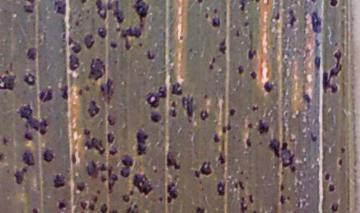tarspot: (119, 1, 149, 51), (16, 102, 48, 137), (321, 51, 343, 94), (144, 85, 167, 109), (280, 142, 297, 173), (132, 173, 154, 196), (88, 57, 107, 82), (86, 158, 107, 180), (82, 137, 107, 155), (99, 78, 115, 105), (181, 93, 195, 123), (107, 1, 125, 24), (118, 154, 134, 177), (135, 130, 149, 156), (1, 70, 17, 92), (164, 151, 180, 171), (107, 165, 118, 194), (310, 11, 323, 35), (194, 161, 212, 177), (268, 137, 281, 159), (21, 149, 36, 167), (166, 182, 178, 204), (68, 52, 81, 72), (94, 1, 107, 21), (52, 172, 67, 189), (67, 36, 82, 53), (257, 118, 270, 136), (14, 167, 27, 185), (86, 100, 99, 118), (38, 88, 53, 103), (53, 1, 68, 16), (83, 33, 95, 50), (149, 110, 163, 124), (41, 148, 55, 162), (170, 82, 183, 97), (96, 24, 109, 39), (217, 37, 227, 56), (287, 8, 297, 27), (22, 73, 36, 86), (22, 1, 36, 14), (26, 46, 37, 62), (59, 84, 70, 100), (145, 48, 157, 61), (105, 114, 117, 127), (239, 195, 248, 212), (70, 148, 79, 165), (216, 181, 226, 196), (247, 47, 258, 60), (263, 80, 273, 93), (302, 92, 312, 105), (210, 17, 221, 28), (221, 123, 232, 133), (56, 200, 67, 210), (108, 145, 118, 156), (212, 132, 221, 144), (308, 131, 317, 143), (272, 10, 281, 22), (217, 152, 225, 165), (199, 110, 209, 120), (168, 108, 178, 118), (23, 131, 33, 141), (108, 40, 118, 50), (106, 133, 115, 144), (125, 206, 139, 213), (313, 55, 321, 67), (330, 202, 339, 212), (237, 180, 246, 190), (75, 183, 85, 192), (79, 200, 88, 210), (121, 194, 131, 203), (82, 127, 91, 137), (194, 205, 205, 213), (244, 137, 252, 148), (279, 193, 286, 205), (239, 1, 246, 13), (98, 174, 107, 183), (249, 70, 257, 80), (236, 64, 244, 74), (100, 203, 108, 213), (1, 135, 8, 146), (313, 38, 321, 47), (87, 203, 96, 211), (234, 28, 241, 38), (248, 193, 254, 204), (323, 172, 331, 180), (228, 108, 236, 116), (246, 122, 254, 130), (328, 183, 335, 192), (203, 12, 210, 21), (329, 1, 339, 7), (279, 182, 285, 192), (339, 146, 346, 154), (251, 105, 259, 112), (31, 206, 39, 213), (1, 152, 5, 165), (157, 196, 164, 203), (92, 195, 99, 202), (128, 189, 135, 196), (137, 41, 144, 48), (73, 20, 80, 27), (285, 194, 291, 202), (109, 207, 117, 213), (77, 88, 83, 96), (170, 101, 177, 107), (202, 93, 208, 100), (207, 64, 214, 70), (212, 7, 218, 14), (95, 189, 102, 195), (114, 26, 121, 32), (178, 35, 185, 41), (196, 1, 204, 6), (243, 21, 249, 27), (187, 47, 193, 53), (338, 158, 343, 165), (233, 182, 238, 189), (211, 56, 216, 63), (112, 59, 119, 64), (238, 170, 244, 175), (132, 204, 138, 209), (79, 1, 88, 4), (251, 209, 257, 213), (308, 1, 317, 3), (254, 1, 261, 3)
